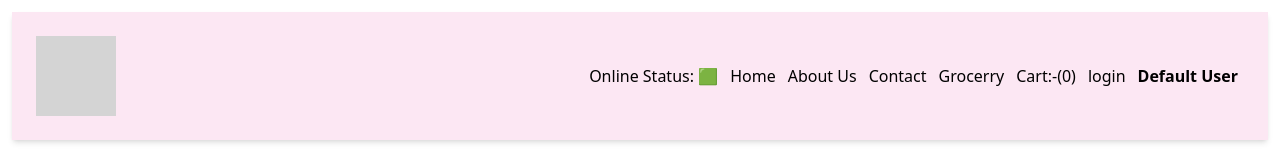
Test case: should change login to logout on clicking the button
Step 1. Click the button "login" → [1107, 76], box x1=1082 y1=64 x2=1132 y2=88
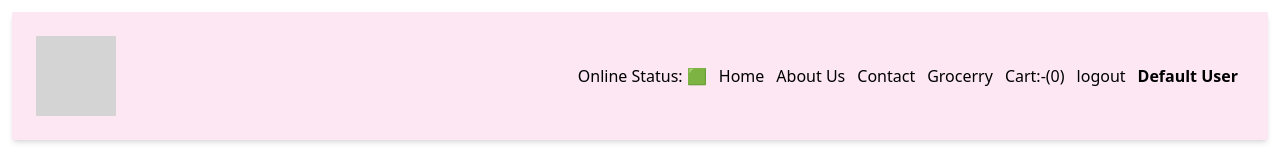
Expected: the button "logout" is shown, x1=1071 y1=64 x2=1132 y2=88
